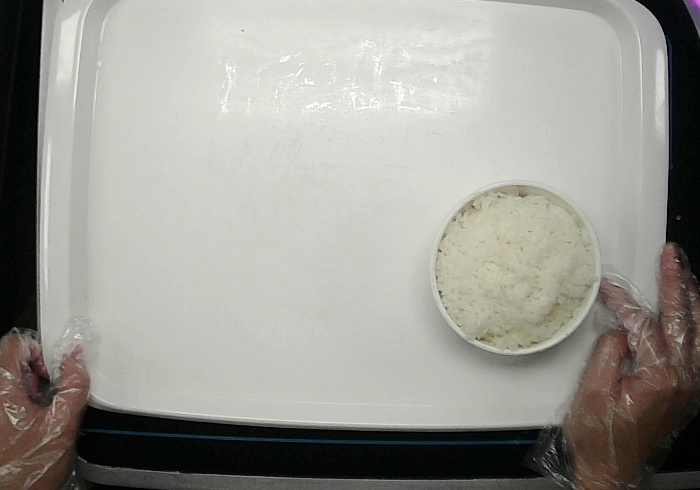HZYJPL-Fan_Wan: (428, 179, 603, 356)
